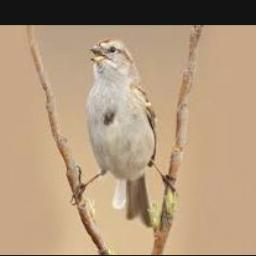Sparrow: (70, 39, 176, 226)
